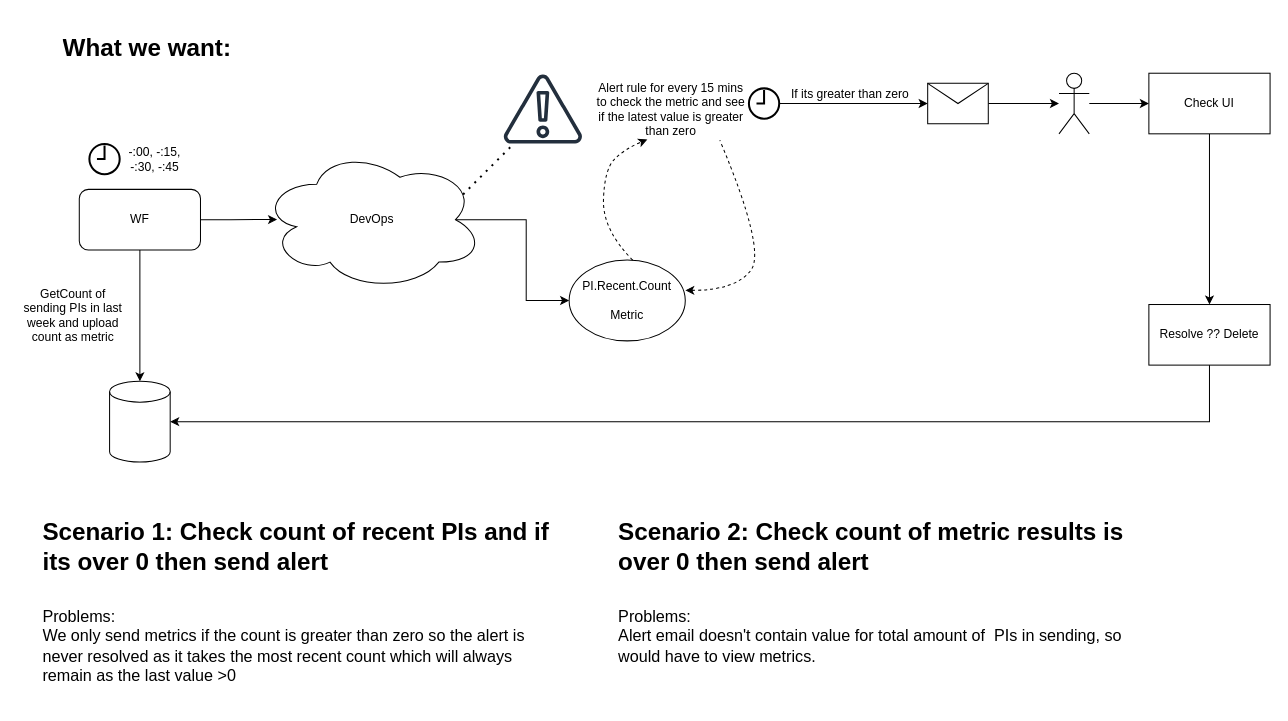
Image size: 1288x721. Some labels were removed from this diagram. The shapes that lost their labels are listed below. From the top down, each one's centre as x and y in pixels, then its label:
the point at 1073,103: Config
the point at 139,421: SQL
